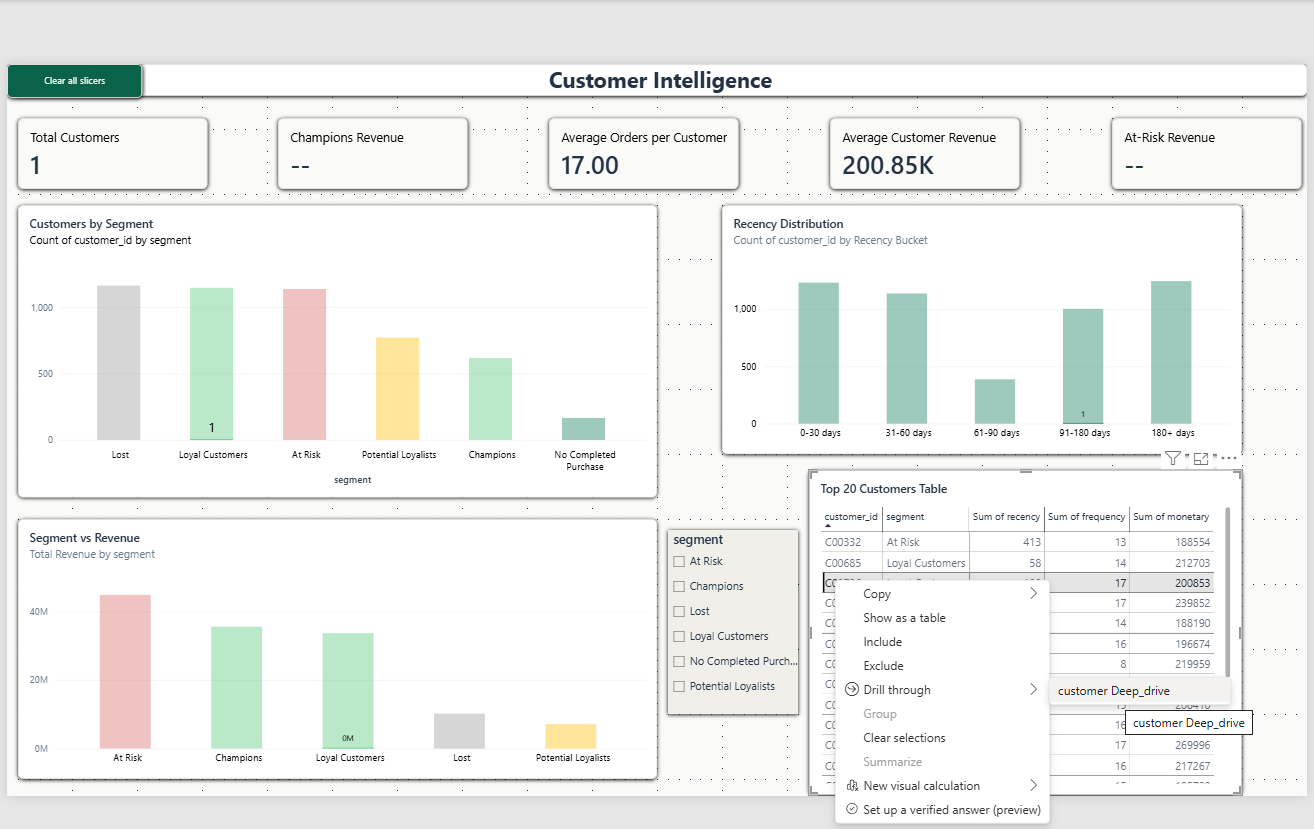

Layout of this report page (visuals, bound fields, positions):
{"tool":"powerbi","page":{"name":"Customer intelligence","canvas":[1920,1080],"ordinal":1},"visuals":[{"type":"textbox","box":[10.3,0,1909.7,47.3],"z":0},{"type":"cardVisual","fields":{"Data":["Calendar.Total Customers"]},"box":[16,80,280.4,105.1],"z":1000},{"type":"cardVisual","fields":{"Data":["_Measure.Average Customer Revenue"]},"box":[1216,80,280.4,105.1],"z":2000},{"type":"cardVisual","fields":{"Data":["_Measure.Average Orders per Customer"]},"box":[800,80,280.4,105.1],"z":3000},{"type":"cardVisual","fields":{"Data":["_Measure.Champions Revenue"]},"box":[400,80,280.4,105.1],"z":4000},{"type":"cardVisual","fields":{"Data":["_Measure.At-Risk Revenue"]},"box":[1632,80,280.4,105.1],"z":5000},{"type":"clusteredColumnChart","title":"Customers by Segment","fields":{"Category":["customer_360_final.segment"],"Y":["CountNonNull(customer_360_final.customer_id)"]},"box":[16,208,944,432],"z":5001},{"type":"clusteredColumnChart","title":"Recency Distribution","fields":{"Category":["customer_360_final.Recency Bucket"],"Y":["CountNonNull(customer_360_final.customer_id)"]},"box":[1056,208,768,368],"z":5002},{"type":"clusteredColumnChart","title":"Segment vs Revenue","fields":{"Category":["customer_360_final.segment"],"Y":["_Measure.Total Revenue"]},"box":[16,672,944,384],"z":5003},{"type":"tableEx","title":"Top 20 Customers Table","fields":{"Values":["customer_360_final.customer_id","customer_360_final.segment","Sum(customer_360_final.recency)","Sum(customer_360_final.frequency)","Sum(customer_360_final.monetary)"]},"box":[1184,600,640,480],"z":5004},{"type":"slicer","fields":{"Values":["customer_360_final.segment"]},"box":[976,688,192,272],"z":5006},{"type":"actionButton","box":[0,0,200,50],"z":5007}]}

Visuals, with their boxes in screenshot pixels (x1, y1, x2, y2):
textbox: rect(14, 62, 1303, 94)
cardVisual - Calendar.Total Customers: rect(18, 116, 207, 187)
cardVisual - _Measure.Average Customer Revenue: rect(828, 116, 1017, 187)
cardVisual - _Measure.Average Orders per Customer: rect(547, 116, 736, 187)
cardVisual - _Measure.Champions Revenue: rect(277, 116, 466, 187)
cardVisual - _Measure.At-Risk Revenue: rect(1108, 116, 1298, 187)
"Customers by Segment" clusteredColumnChart: rect(18, 202, 655, 494)
"Recency Distribution" clusteredColumnChart: rect(720, 202, 1238, 450)
"Segment vs Revenue" clusteredColumnChart: rect(18, 515, 655, 774)
"Top 20 Customers Table" tableEx: rect(806, 467, 1238, 790)
slicer - customer_360_final.segment: rect(666, 526, 795, 710)
actionButton: rect(7, 62, 142, 95)
